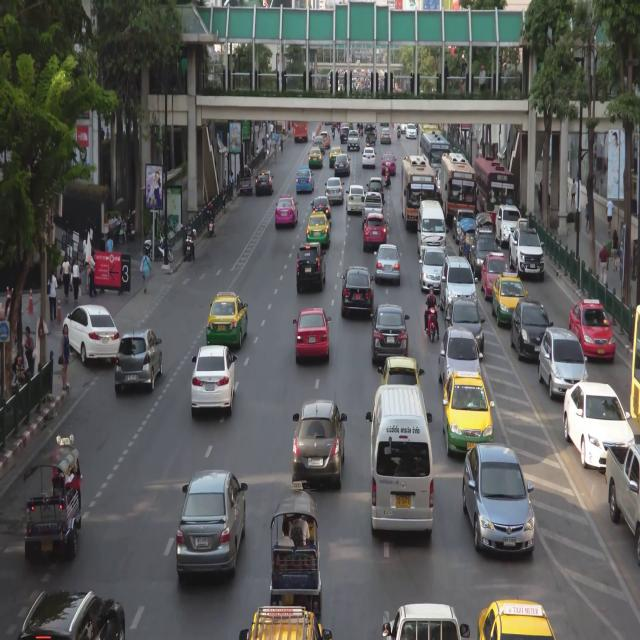bus: (399, 152, 439, 234), (441, 146, 477, 233), (473, 156, 516, 227), (418, 124, 449, 178)
car: (364, 387, 441, 542), (460, 438, 539, 567), (23, 432, 87, 568), (174, 469, 250, 582), (268, 485, 326, 623), (557, 369, 633, 473), (19, 583, 131, 640), (56, 294, 129, 374), (289, 396, 346, 493), (602, 435, 640, 560), (380, 595, 468, 640), (536, 321, 587, 398), (239, 601, 337, 640), (189, 344, 238, 415), (114, 328, 163, 395), (371, 301, 411, 368), (437, 329, 481, 389), (444, 298, 487, 358), (510, 300, 552, 360), (292, 302, 331, 366), (440, 251, 478, 308), (338, 263, 374, 320), (508, 226, 544, 277), (415, 199, 447, 251), (296, 239, 327, 291), (418, 245, 449, 292), (471, 224, 499, 275), (373, 240, 402, 286), (495, 205, 524, 243), (363, 212, 389, 249), (459, 219, 477, 260), (346, 180, 366, 216), (324, 172, 346, 204), (452, 206, 473, 238), (294, 166, 315, 194), (254, 169, 275, 195), (237, 164, 254, 196), (366, 176, 384, 205), (333, 152, 351, 176), (379, 150, 397, 174), (360, 146, 377, 169), (347, 128, 361, 150), (328, 146, 342, 168), (308, 148, 323, 167), (404, 123, 417, 140), (312, 137, 325, 153), (380, 126, 391, 144), (319, 131, 330, 148), (339, 127, 351, 142)
pedestrian: (57, 322, 72, 397), (23, 324, 37, 373), (596, 239, 609, 289), (140, 251, 153, 295), (48, 269, 59, 320), (86, 248, 97, 296), (71, 257, 82, 303), (61, 253, 71, 301), (72, 259, 81, 305), (611, 230, 620, 270), (605, 194, 613, 232), (571, 177, 578, 208), (106, 233, 115, 254), (585, 198, 590, 233), (538, 185, 543, 219), (230, 172, 234, 199), (223, 179, 226, 208), (274, 143, 277, 164), (280, 133, 283, 153), (267, 138, 270, 156), (269, 136, 272, 152), (270, 122, 273, 138), (256, 145, 259, 154)
taxi: (439, 370, 495, 453), (569, 296, 617, 367), (475, 598, 555, 640), (206, 291, 248, 352), (272, 190, 299, 232)
